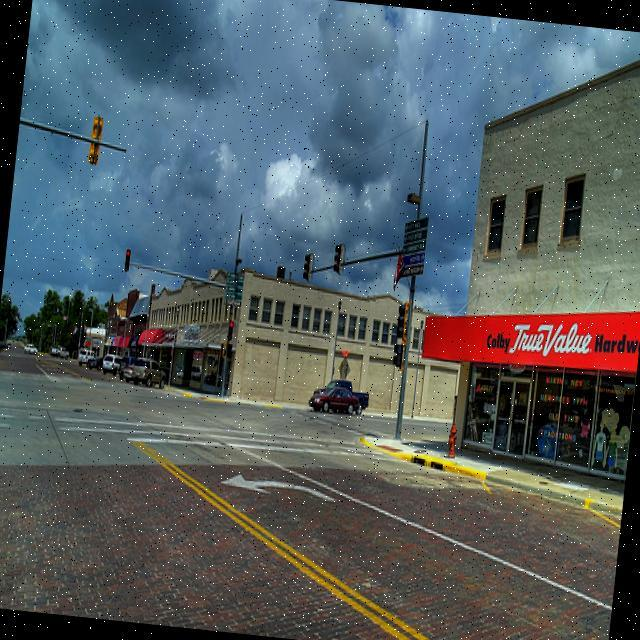fire_hydrant: (445, 422, 458, 458)
